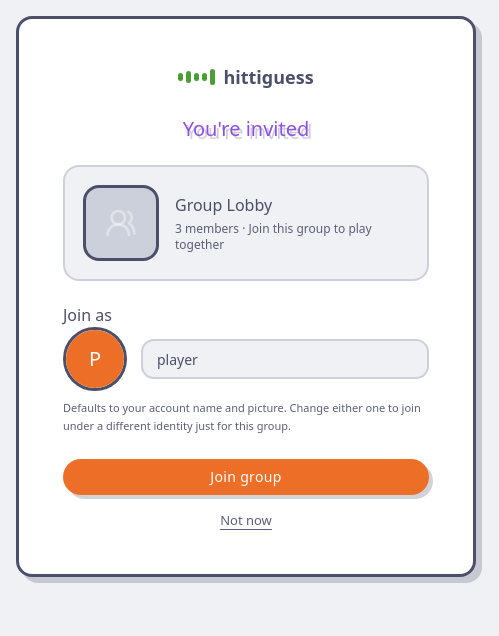
JoinGroupPage › keeps the invalid-link wording for a missing invite code and offers no leave action
The width and height of the screenshot is (499, 636).
Click the button "Join group" at (246, 477), box [63, 459, 429, 495]
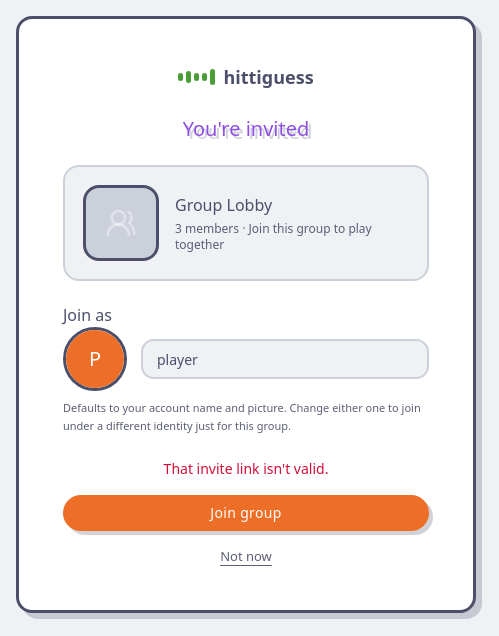
Expected: the text "That invite link isn't valid." is shown, [164, 459, 328, 479]
